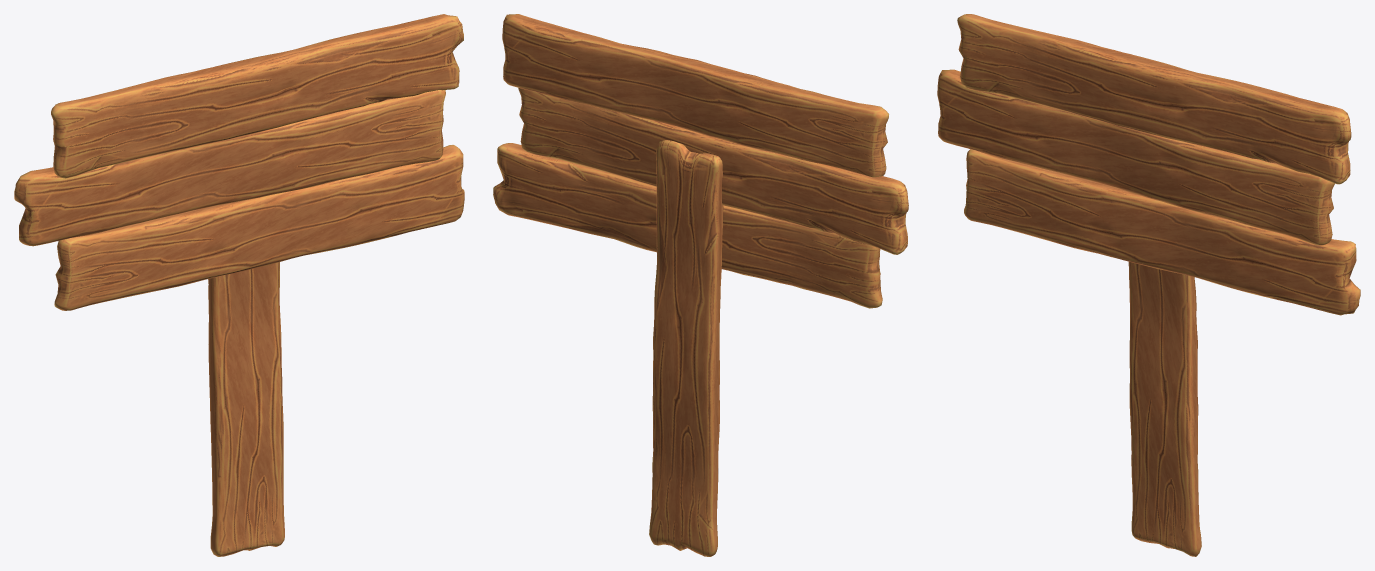
The model's file is SIGN_fair.gltf.
3 renders of one model, left to right at view 1: azimuth 30°, elevation 25°; view 2: azimuth 150°, elevation 25°; view 3: azimuth 330°, elevation 25°, orthographic. The views are drawn at different scales.
Visible parts, largest first — view 1: wooden_sign_fair; view 2: wooden_sign_fair; view 3: wooden_sign_fair.
Boxes of the visible parts, left/top/right/bottom form: wooden_sign_fair: left=14, top=14, right=464, bottom=556; wooden_sign_fair: left=493, top=14, right=908, bottom=556; wooden_sign_fair: left=937, top=14, right=1360, bottom=556.
Size of what is drawn, in the model's own units: 1.07 by 1.16 by 0.1086.
1 material, 1 textured.
